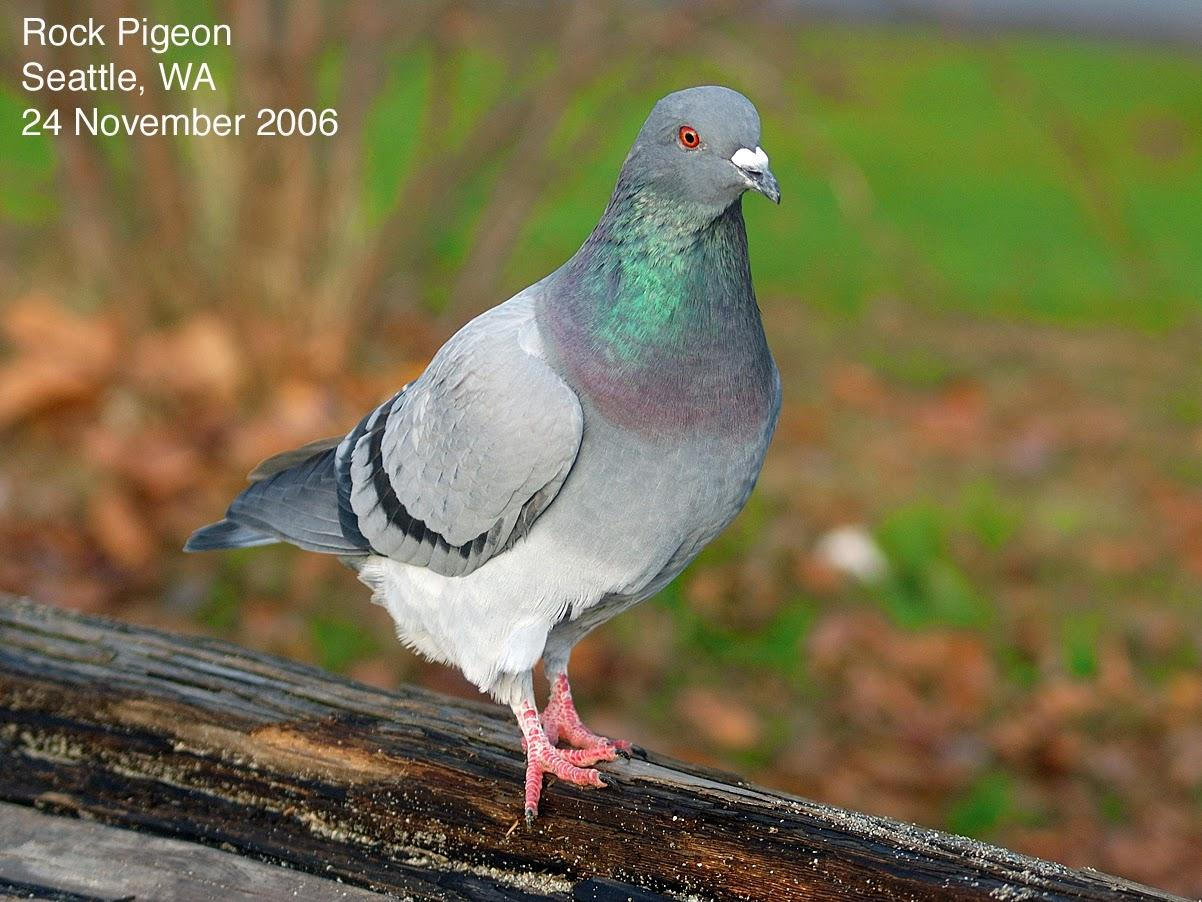Flying Rat: (226, 79, 791, 805)
